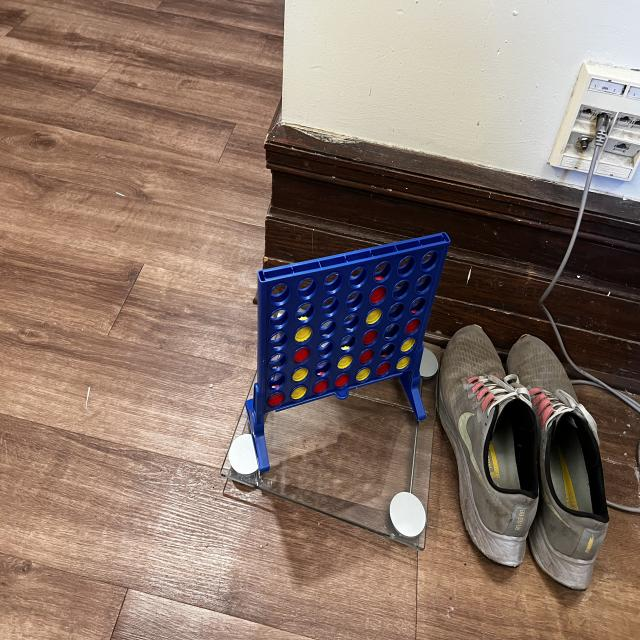Board: (257, 238, 450, 415)
No Piece: (270, 281, 291, 307), (421, 248, 442, 274), (297, 275, 316, 300), (372, 257, 391, 282), (396, 253, 414, 278), (270, 308, 290, 330), (320, 295, 340, 317), (382, 320, 401, 343), (340, 310, 360, 331), (345, 289, 364, 311), (339, 332, 357, 355), (414, 273, 432, 296), (269, 329, 288, 350), (324, 270, 342, 292), (269, 368, 286, 391), (296, 301, 314, 322), (316, 337, 334, 358), (392, 278, 410, 299), (387, 300, 405, 321), (314, 359, 332, 379), (320, 317, 337, 338), (349, 266, 366, 287), (409, 294, 424, 317), (269, 352, 287, 370), (379, 340, 395, 360)
Red Piece: (368, 284, 389, 306), (356, 346, 376, 367), (361, 328, 380, 347), (266, 391, 287, 408), (374, 361, 393, 378), (334, 372, 352, 389), (405, 318, 422, 336), (314, 377, 330, 394)
Yellow Piece: (365, 306, 383, 327), (294, 326, 314, 344), (336, 354, 354, 372), (290, 367, 310, 382), (399, 336, 416, 353), (290, 385, 308, 400), (356, 367, 372, 382), (397, 355, 411, 370)
